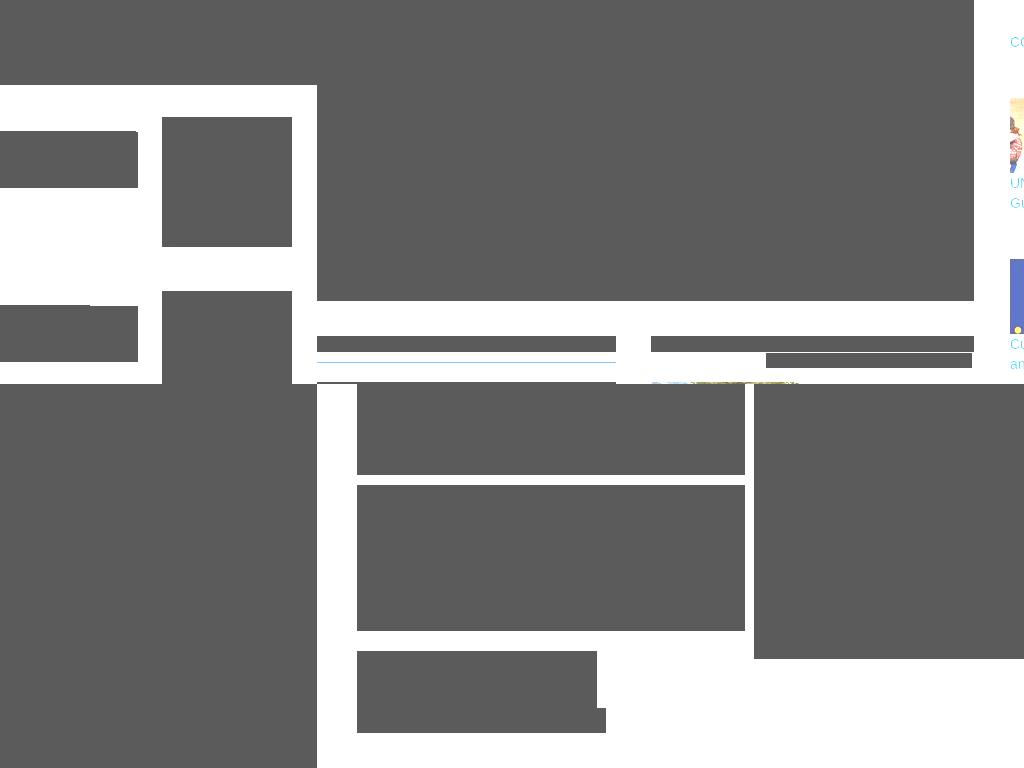button: (0, 384, 127, 768), (126, 550, 317, 768), (126, 384, 317, 551), (0, 0, 317, 85), (162, 117, 292, 247), (357, 651, 597, 708), (162, 291, 292, 384), (0, 132, 138, 188), (0, 306, 138, 362)
heading: (357, 384, 745, 475), (0, 131, 136, 188), (651, 336, 974, 352), (0, 305, 90, 362), (317, 336, 616, 352)
image: (317, 0, 974, 301), (754, 384, 1024, 659), (0, 0, 317, 85), (162, 117, 292, 247), (162, 291, 292, 384)
link: (317, 248, 933, 288), (877, 353, 972, 368), (789, 336, 832, 351), (840, 336, 881, 351), (817, 353, 851, 368), (600, 336, 614, 351), (766, 336, 780, 351)
text: (357, 485, 745, 631), (176, 457, 317, 506), (357, 708, 606, 733), (766, 353, 818, 368), (850, 353, 878, 368), (779, 336, 790, 351), (831, 336, 841, 351)
